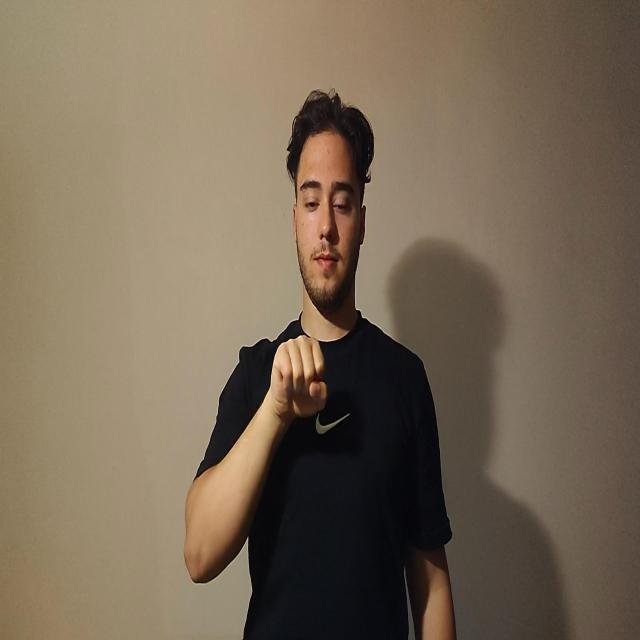yes: (270, 334, 328, 425)
